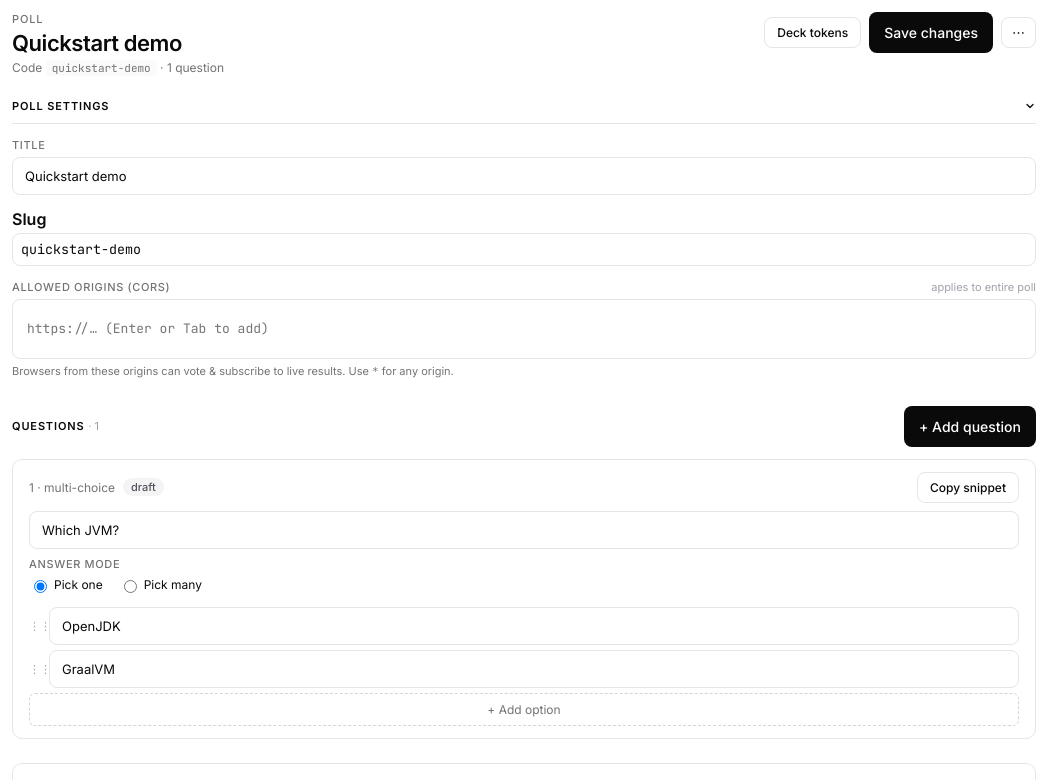
PollEditorPage — edit mode › copy snippet › surfacesClipboardErrorInFormError
Click the button with test id "question-copy-snippet" at (968, 487), box [917,472,1019,503]
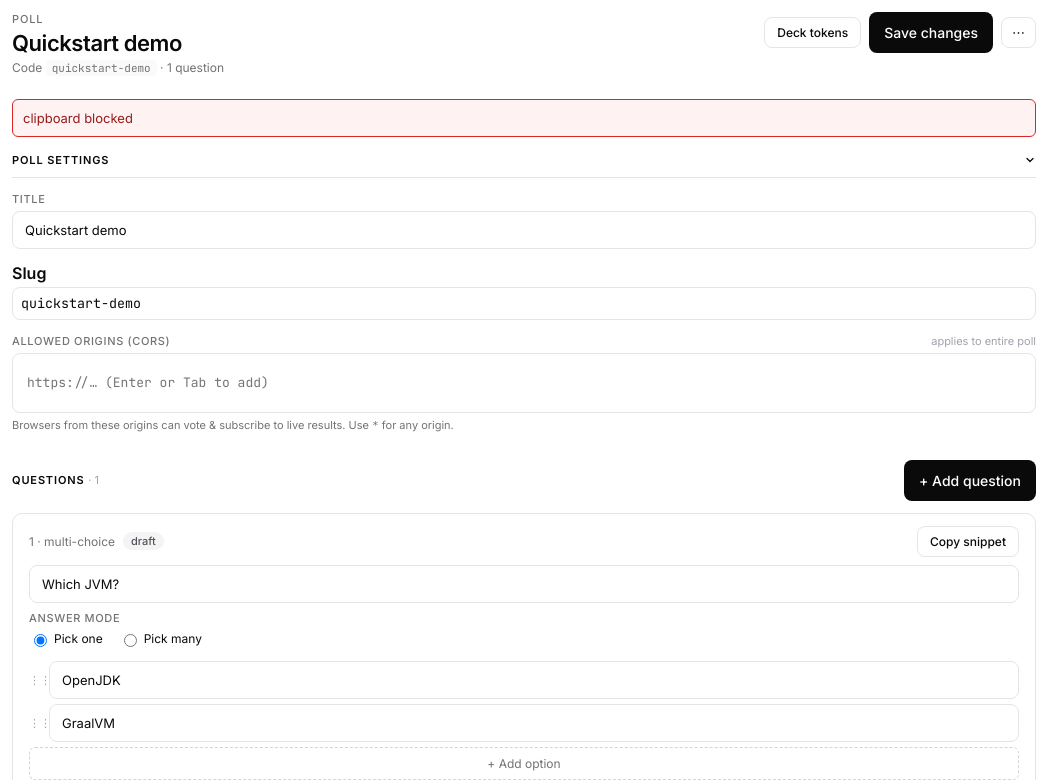
Check: the message "clipboard blocked" is shown, box [12,99,1036,137]
